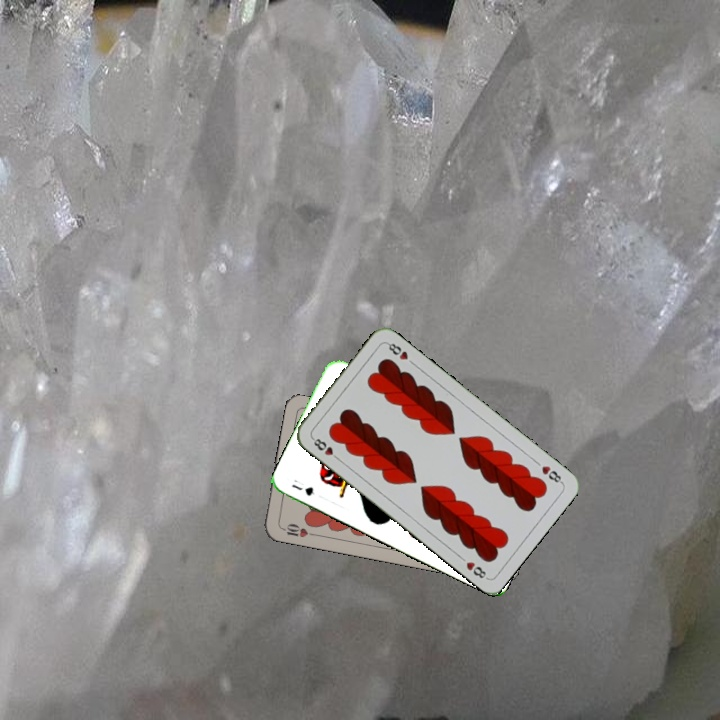GU: (287, 480, 317, 499)
H10: (277, 519, 317, 540)
H8: (308, 434, 343, 463), (537, 461, 565, 486)
